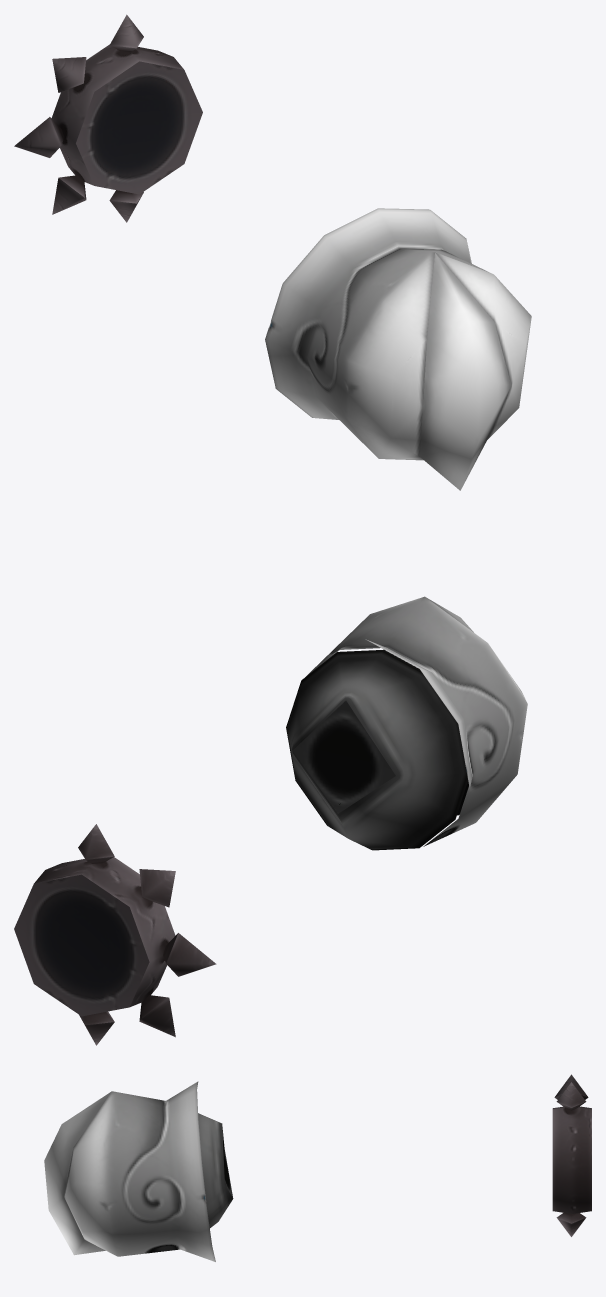
The model's file is Rng_red.glb.
The picture shows the model from 3 angles, top to bottom: view 1: azimuth 30°, elevation 25°; view 2: azimuth 150°, elevation 25°; view 3: azimuth 270°, elevation 25°; orthographic projection. The views are drawn at different scales.
Visible parts, largest first — view 1: pith.model-Mesh[0], spikedbracer.model_base-Mesh[0]; view 2: pith.model-Mesh[0], spikedbracer.model_base-Mesh[0]; view 3: pith.model-Mesh[0], spikedbracer.model_base-Mesh[0].
Part boxes in pixels (bbox=[...]): pith.model-Mesh[0]: bbox=[265, 208, 531, 490]; spikedbracer.model_base-Mesh[0]: bbox=[14, 14, 202, 222]; pith.model-Mesh[0]: bbox=[286, 596, 527, 850]; spikedbracer.model_base-Mesh[0]: bbox=[14, 824, 216, 1045]; pith.model-Mesh[0]: bbox=[44, 1081, 233, 1261]; spikedbracer.model_base-Mesh[0]: bbox=[552, 1074, 591, 1236].
Bounding box in the file's own units: 0.6148 × 0.6288 × 1.64.
Materials: 3 (3 with a texture image).
